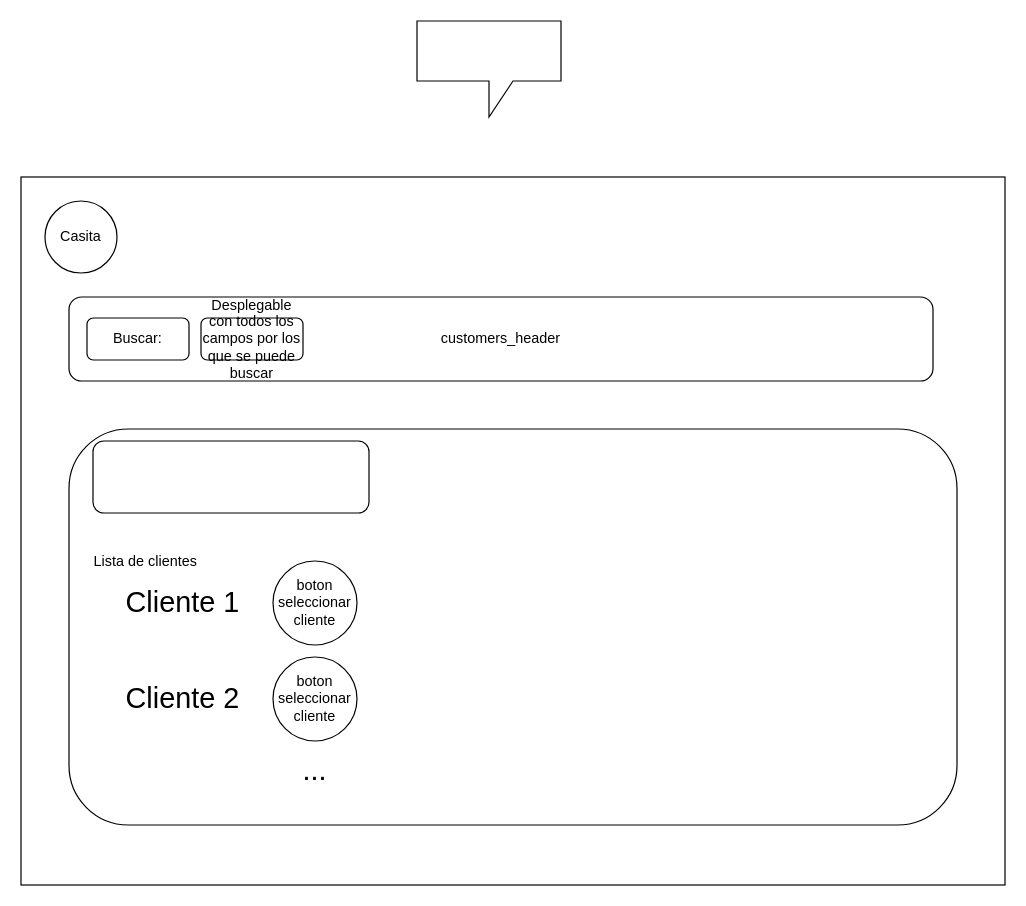
Some shapes in this 1026 by 906 pixel diagram are drawn without their labels. The shapes that lost their labels are listed below. From the top down, each one's centre as x and y in pixels, then its label:
pixel 488 68: ORDERS SECTION
pixel 230 476: Buscador de clientes (igual que en artículos, todo tipo de busquedas)
